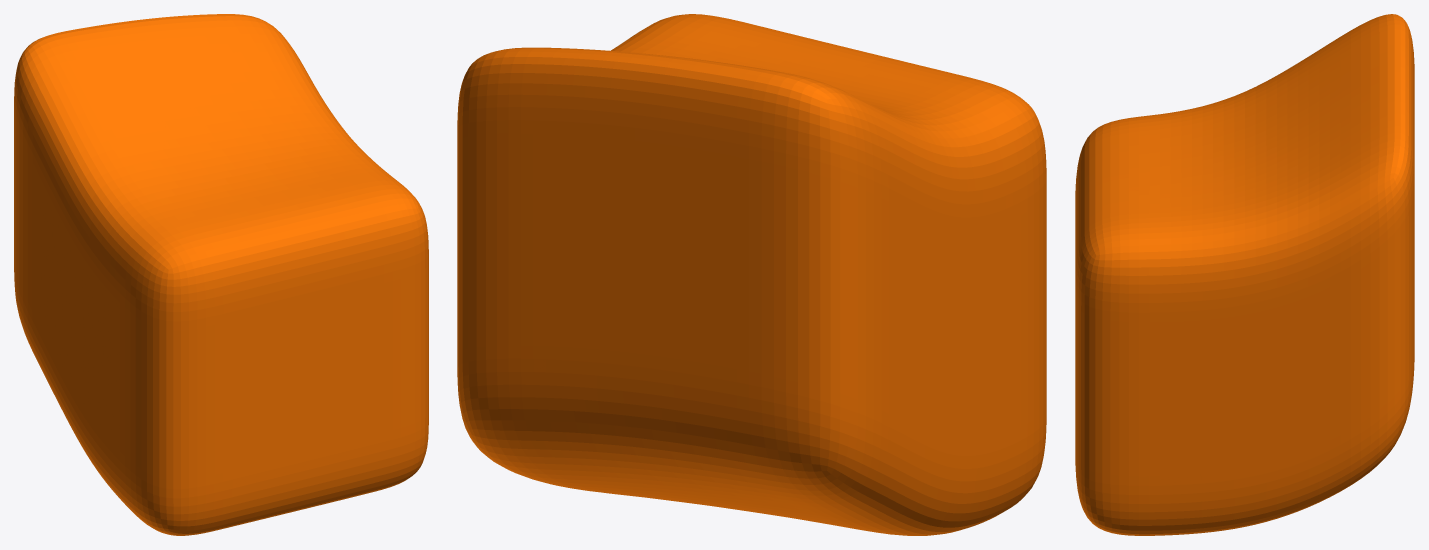
3 views of the same model, side by side, from view 1: azimuth 30°, elevation 25°; view 2: azimuth 150°, elevation 25°; view 3: azimuth 270°, elevation 25° (orthographic). The views are drawn at different scales.
Parts seen in each view (by area): view 1: smooth_1_base.008; view 2: smooth_1_base.008; view 3: smooth_1_base.008.
Boxes of the visible parts, x1,y1,x2,y2 form: smooth_1_base.008: [14, 14, 428, 535]; smooth_1_base.008: [457, 14, 1046, 535]; smooth_1_base.008: [1075, 14, 1414, 535].
Size of the model in its own units: 60 by 80.27 by 60.
